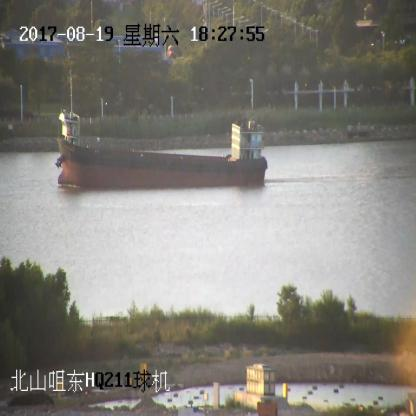Bulk Carrier: (54, 109, 266, 188)
